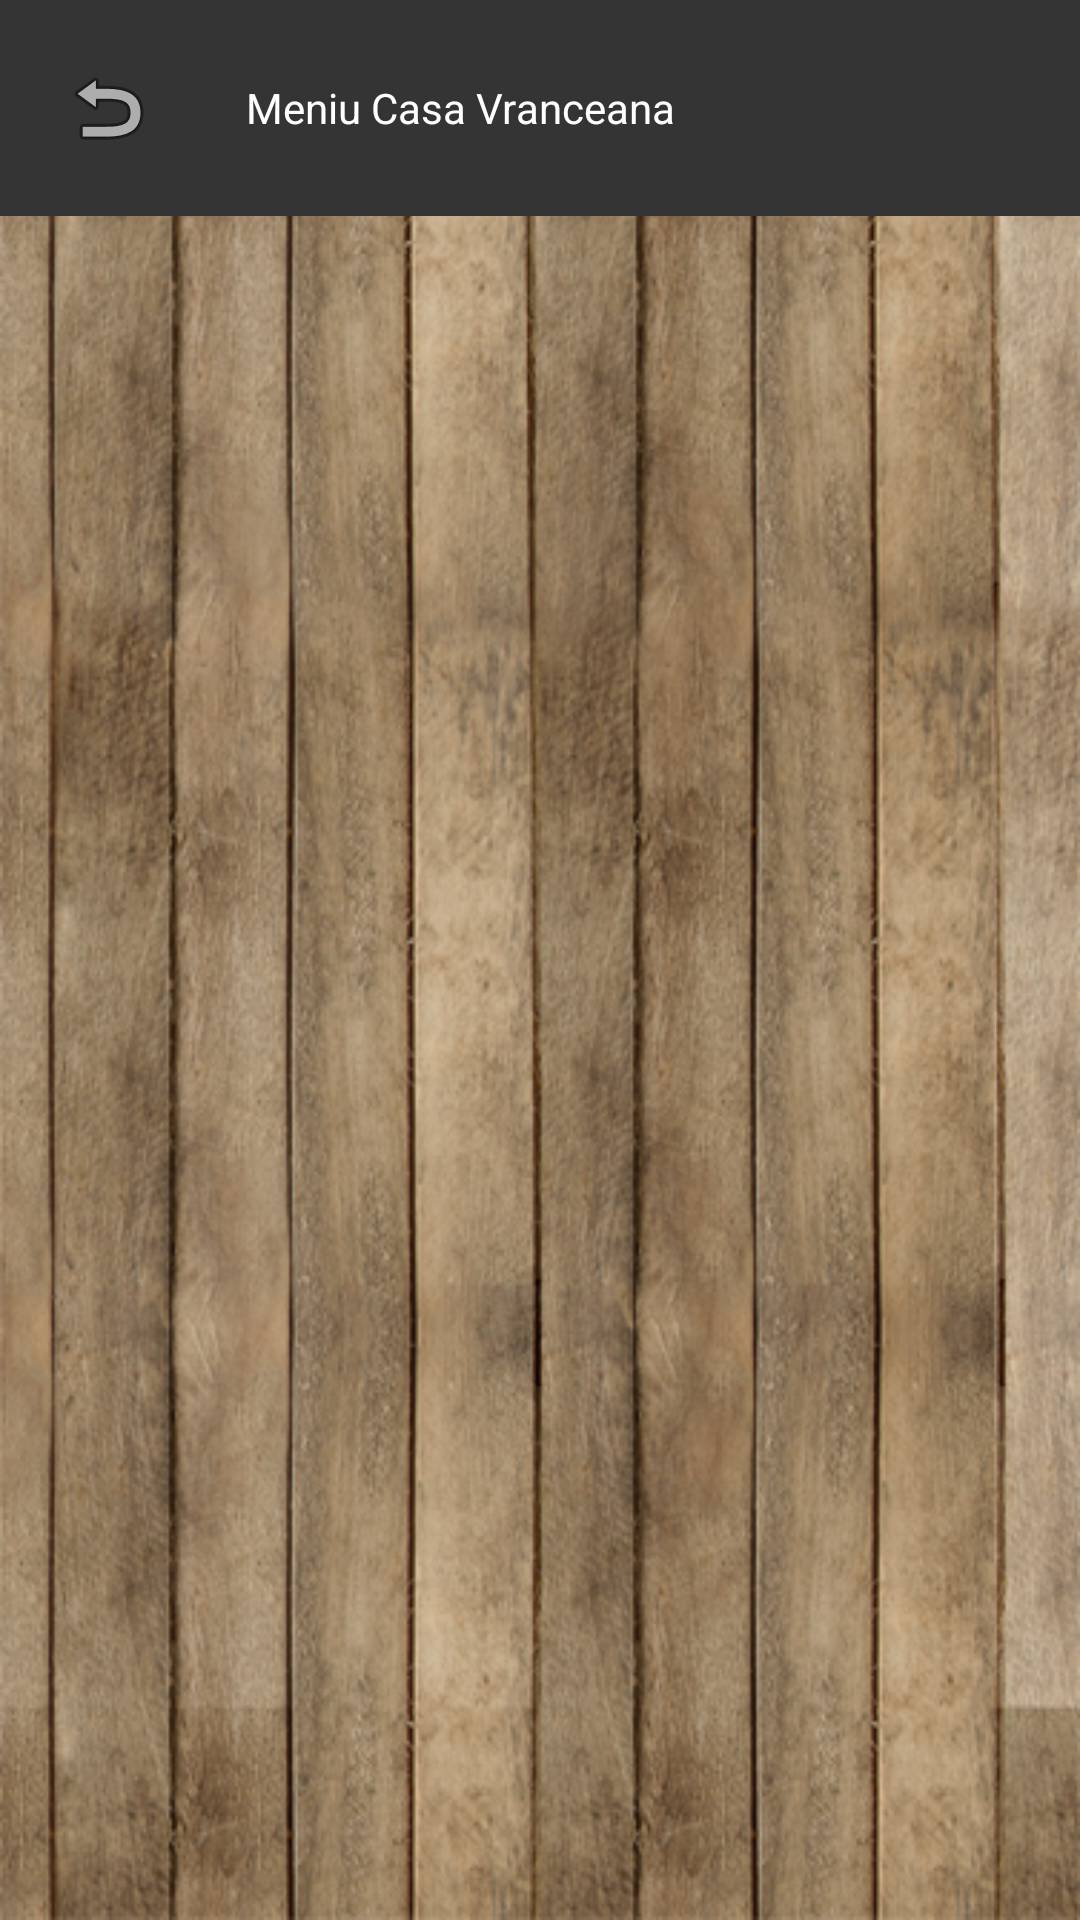

Icon click points for this 1080px x 1920px phone screenshot, format point (x, y):
revert: point (109, 108)
